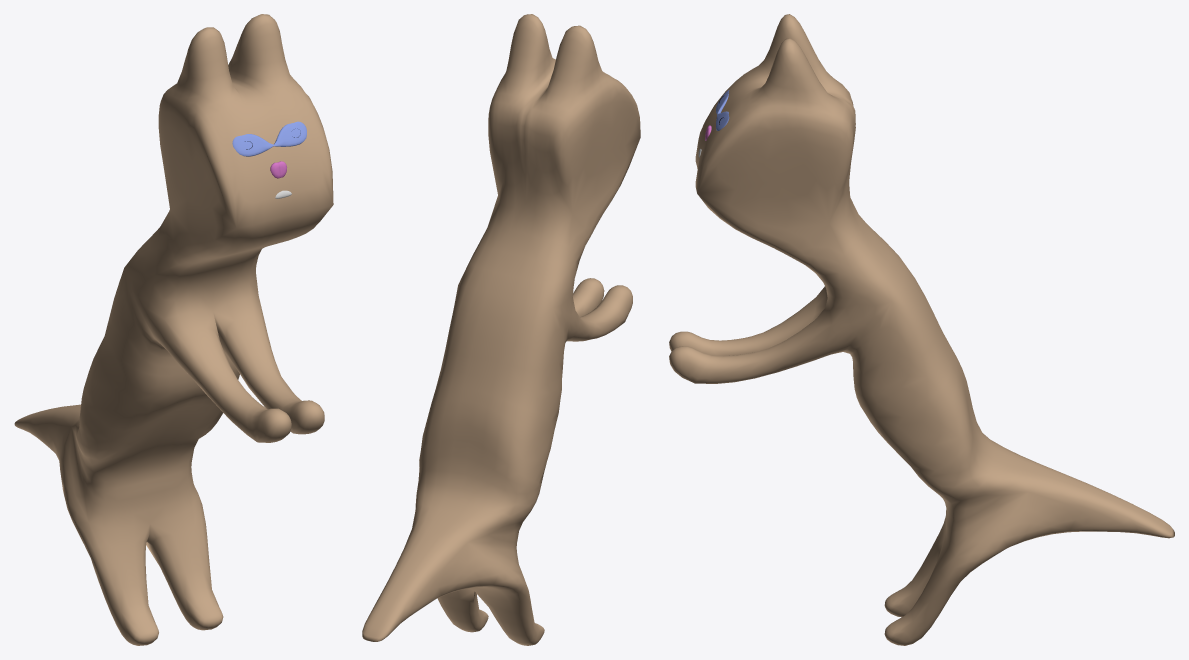
File: CatBody.fbx
3 views of the same model, side by side, from view 1: azimuth 30°, elevation 25°; view 2: azimuth 150°, elevation 25°; view 3: azimuth 270°, elevation 25° (orthographic). The views are drawn at different scales.
Parts seen in each view (by area): view 1: Cat; view 2: Cat; view 3: Cat.
Boxes of the visible parts, x1,y1,x2,y2 form: Cat: (14, 14, 333, 645); Cat: (362, 14, 640, 645); Cat: (669, 14, 1174, 645).
Bounding box in the file's own units: 1.01 × 5.07 × 3.86.
